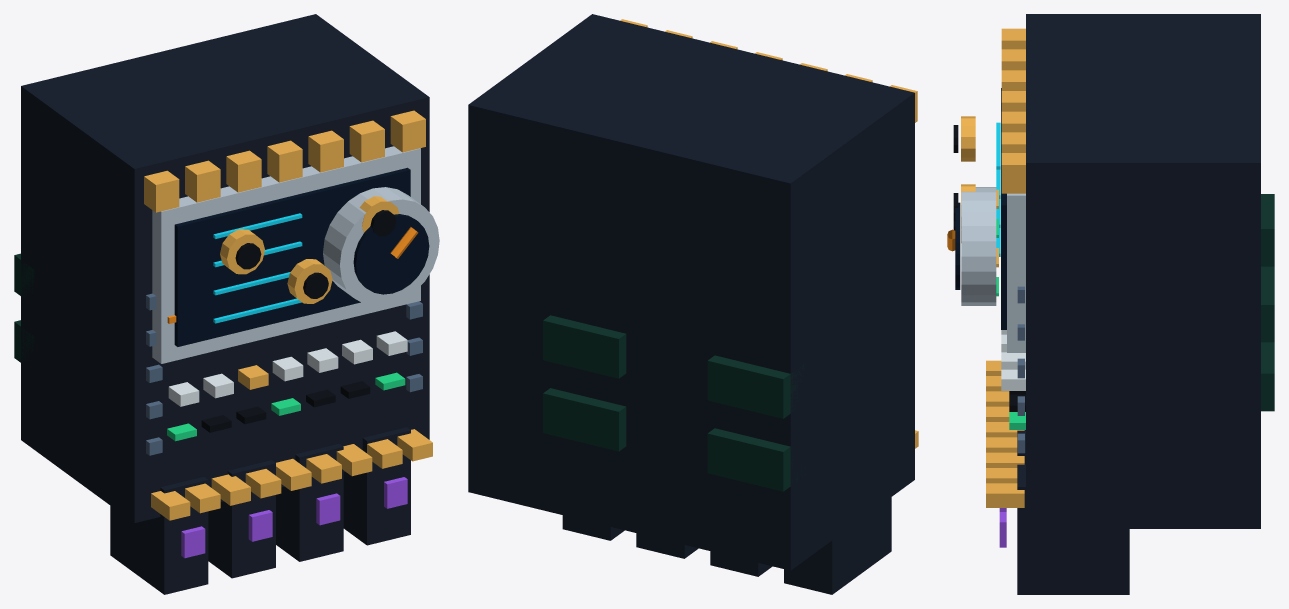
The model's file is 65_L91_NavigationCovarianceEstimator.fbx.
The picture shows the model from 3 angles, left to right: view 1: azimuth 30°, elevation 25°; view 2: azimuth 150°, elevation 25°; view 3: azimuth 270°, elevation 25°; orthographic projection. The views are drawn at different scales.
Parts seen in each view (by area): view 1: L91_NavigationCovarianceEstimator, L91_NavigationCovarianceEstimator_Part_0013, L91_NavigationCovarianceEstimator_Part_0014, L91_NavigationCovarianceEstimator_Part_0016, L91_NavigationCovarianceEstimator_Part_0018; view 2: L91_NavigationCovarianceEstimator; view 3: L91_NavigationCovarianceEstimator, L91_NavigationCovarianceEstimator_Part_0014.
Part boxes in pixels (x1,y1,x2,y2): L91_NavigationCovarianceEstimator: (14, 14, 439, 594); L91_NavigationCovarianceEstimator_Part_0013: (181, 477, 407, 558); L91_NavigationCovarianceEstimator_Part_0014: (220, 229, 264, 274); L91_NavigationCovarianceEstimator_Part_0016: (287, 259, 332, 303); L91_NavigationCovarianceEstimator_Part_0018: (359, 196, 399, 232); L91_NavigationCovarianceEstimator: (468, 14, 918, 594); L91_NavigationCovarianceEstimator: (955, 14, 1274, 594); L91_NavigationCovarianceEstimator_Part_0014: (961, 116, 975, 161).
Size of the model in its own units: 100 by 140 by 93.43.
